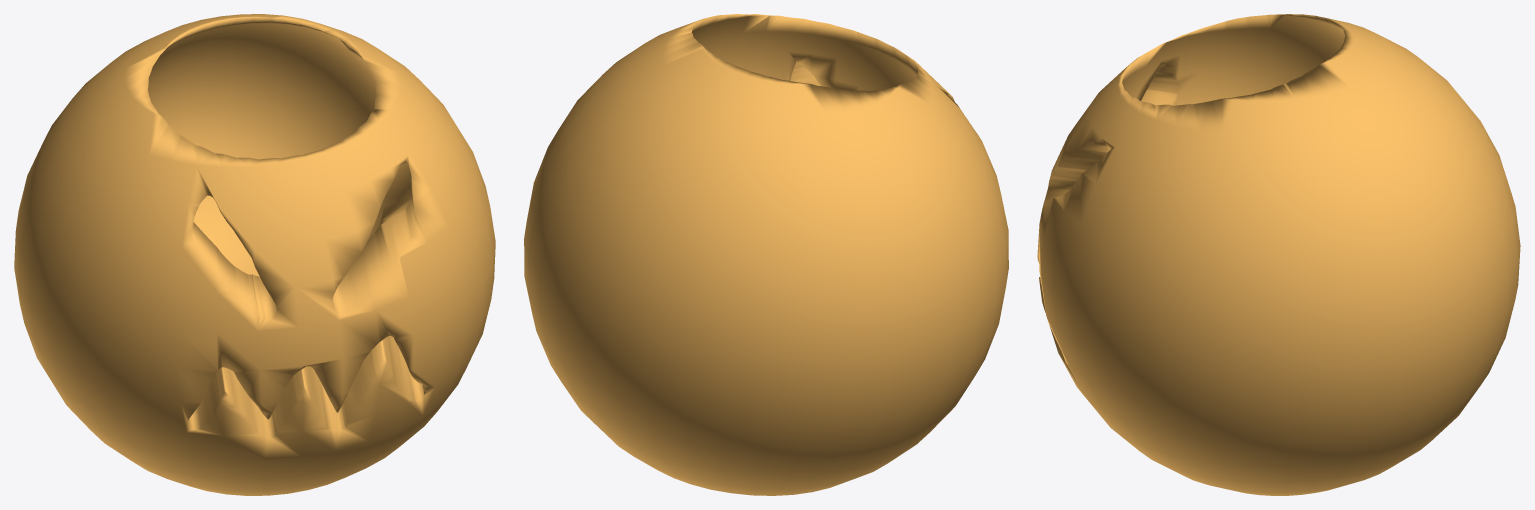
3 renders of one model, left to right at view 1: azimuth 30°, elevation 25°; view 2: azimuth 150°, elevation 25°; view 3: azimuth 270°, elevation 25°, orthographic.
Visible parts, largest first — view 1: obj_0.005; view 2: obj_0.005; view 3: obj_0.005.
Part boxes in pixels (box(x1,y1,x2,y2)): obj_0.005: box(14, 14, 495, 495); obj_0.005: box(524, 14, 1008, 495); obj_0.005: box(1037, 14, 1520, 495).
Size of the model in its own units: 0.0427 by 0.042 by 0.0428.
